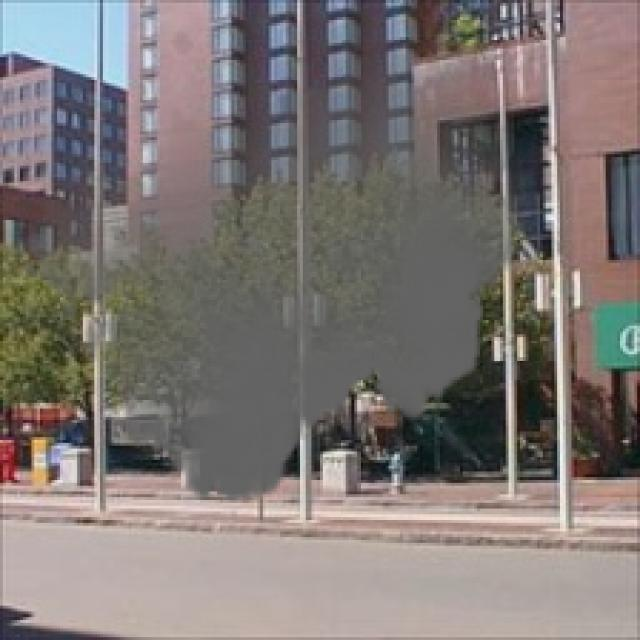smoke: (11, 6, 526, 520)
